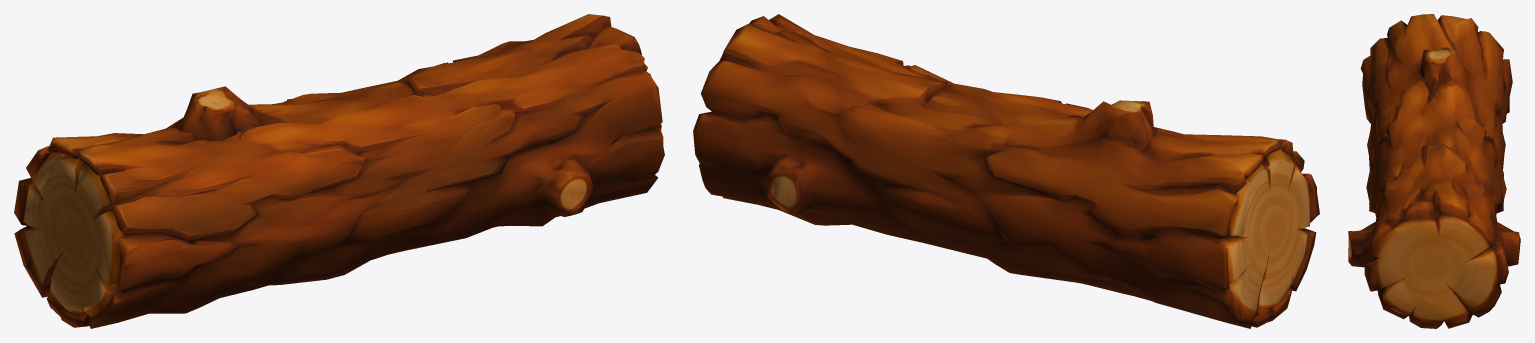
The model's file is wood_log.fbx.
3 renders of one model, left to right at view 1: azimuth 30°, elevation 25°; view 2: azimuth 150°, elevation 25°; view 3: azimuth 270°, elevation 25°, orthographic. The views are drawn at different scales.
Visible parts, largest first — view 1: tripo_node_9728d4e6; view 2: tripo_node_9728d4e6; view 3: tripo_node_9728d4e6.
Boxes of the visible parts, bbox=[...] form: tripo_node_9728d4e6: bbox=[14, 14, 664, 328]; tripo_node_9728d4e6: bbox=[693, 14, 1319, 328]; tripo_node_9728d4e6: bbox=[1348, 14, 1520, 328].
Bounding box in the file's own units: 100 × 36.82 × 33.21.
1 material, 1 textured.
